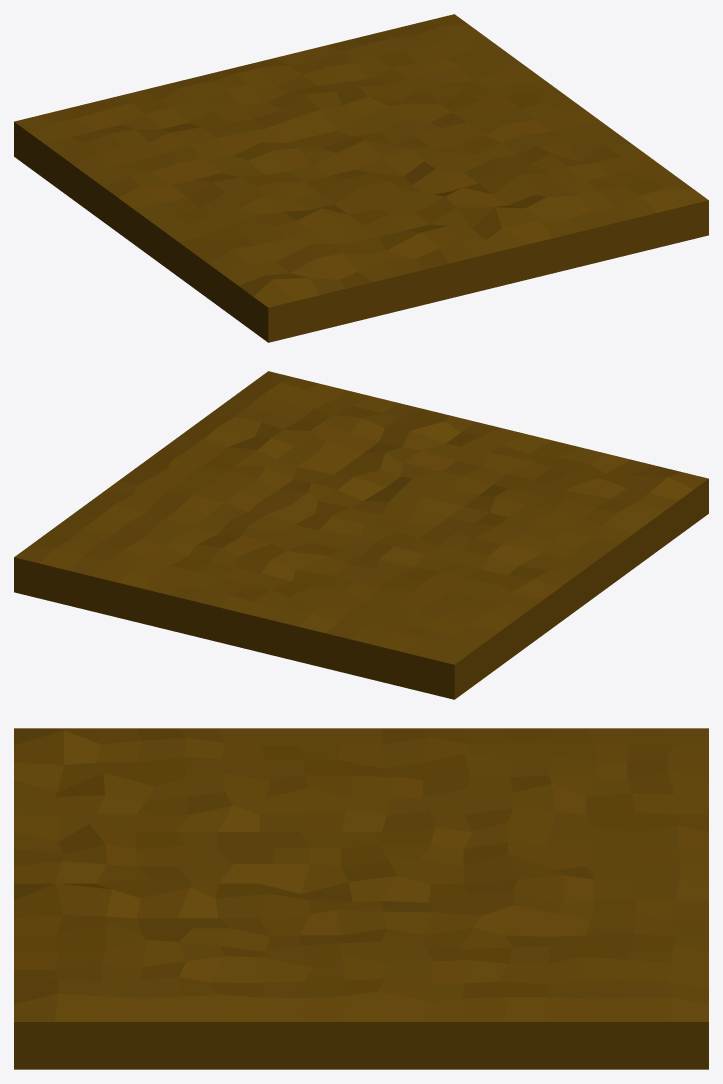
The model's file is Blank Model Extruded Brown Variant.glb.
The picture shows the model from 3 angles, top to bottom: view 1: azimuth 30°, elevation 25°; view 2: azimuth 150°, elevation 25°; view 3: azimuth 270°, elevation 25°; orthographic projection. The views are drawn at different scales.
Parts seen in each view (by area): view 1: Plane; view 2: Plane; view 3: Plane.
Part boxes in pixels (<box>): Plane: <box>14,14,708,342</box>; Plane: <box>14,371,708,699</box>; Plane: <box>14,728,708,1069</box>.
Size of what is drawn, in the model's own units: 16 by 1.74 by 16.
